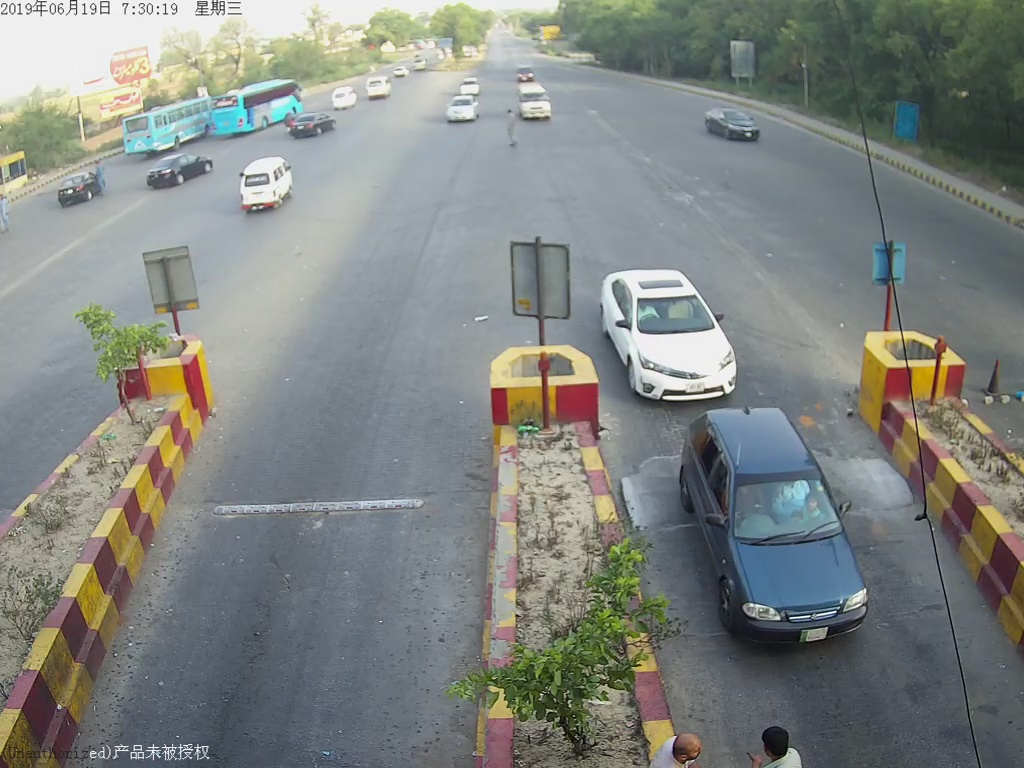Cat-1: (684, 409, 879, 664), (603, 266, 755, 403)
